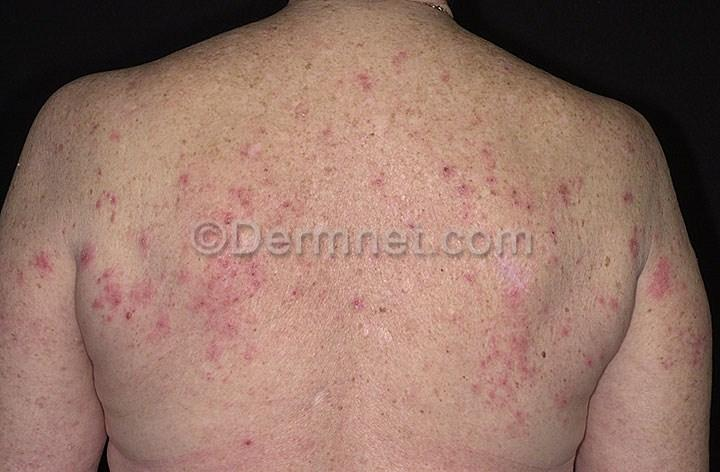Eczema: (443, 264, 578, 420), (292, 90, 447, 216), (583, 235, 695, 368), (321, 261, 434, 383), (73, 218, 177, 342), (193, 260, 312, 363), (287, 4, 434, 87), (79, 111, 194, 210), (553, 139, 675, 232), (447, 112, 554, 210), (199, 126, 289, 217), (3, 221, 69, 312)
